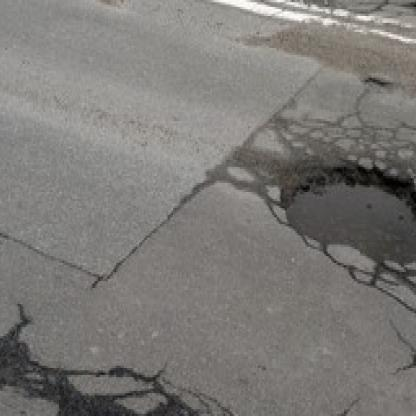pothole: (279, 167, 416, 272), (411, 0, 416, 9)
